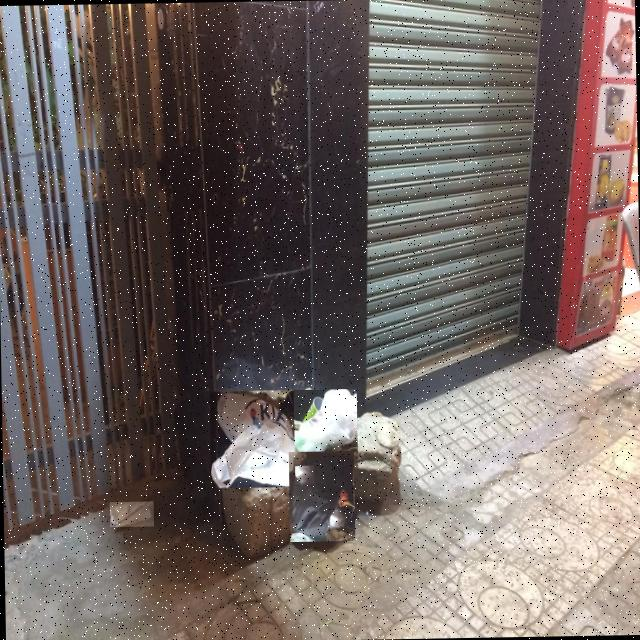Garbage bag: (289, 451, 353, 541)
Single-use carrier bag: (211, 392, 299, 488), (294, 389, 357, 459)
Unlabeled litter: (109, 501, 153, 527), (327, 394, 347, 418), (295, 466, 314, 484)
